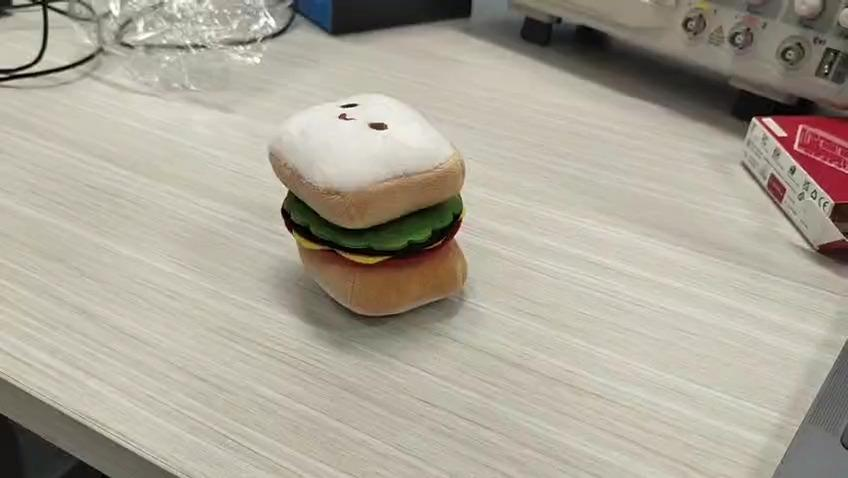objects: (266, 94, 470, 317)
